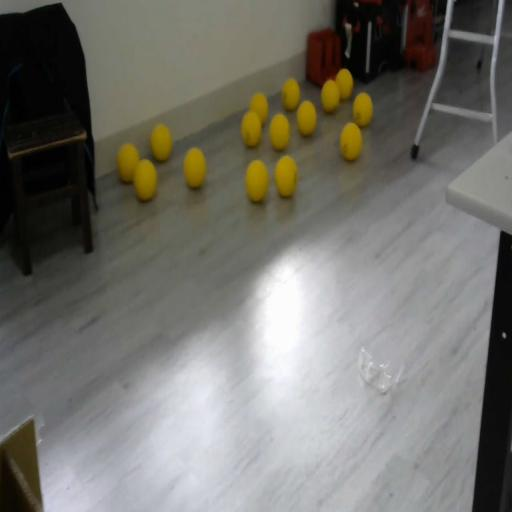FUEL: (244, 158, 270, 205), (274, 154, 298, 197), (183, 147, 207, 189), (134, 159, 157, 201), (116, 143, 140, 183), (150, 122, 172, 162), (340, 122, 362, 162), (269, 113, 290, 151), (296, 100, 317, 137), (320, 77, 340, 114), (352, 92, 373, 127), (249, 91, 269, 127), (281, 76, 301, 112), (335, 68, 353, 100)
